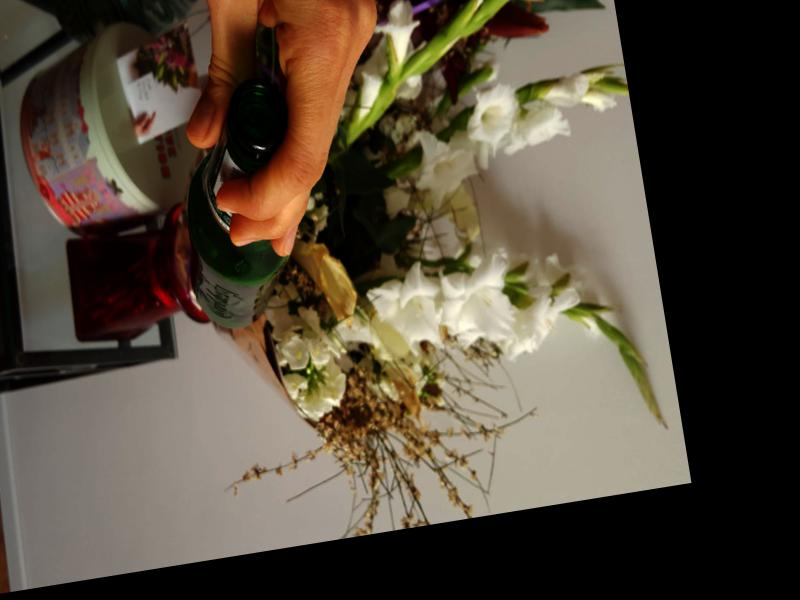Beer: (159, 75, 318, 335)
